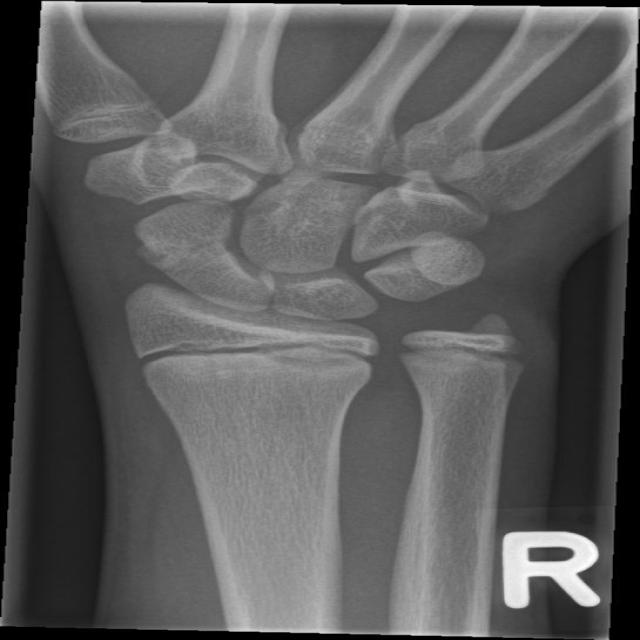fracture: (128, 315, 384, 381), (391, 324, 546, 385)
